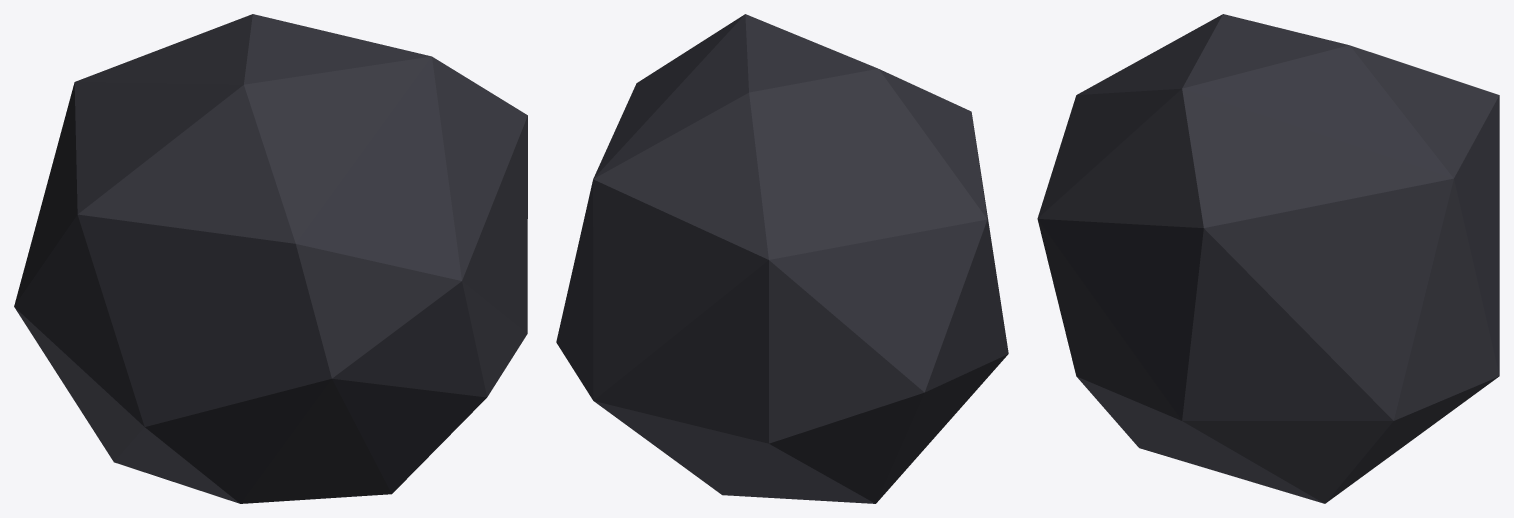
The model's file is BR_Steelix-Shiny03.obj.
3 renders of one model, left to right at view 1: azimuth 30°, elevation 25°; view 2: azimuth 150°, elevation 25°; view 3: azimuth 270°, elevation 25°, orthographic. The views are drawn at different scales.
Parts seen in each view (by area): view 1: haganeil; view 2: haganeil; view 3: haganeil.
Part boxes in pixels (x1=…): haganeil: x1=14, y1=14, x2=527, y2=503; haganeil: x1=556, y1=14, x2=1008, y2=503; haganeil: x1=1037, y1=14, x2=1499, y2=503.
Bounding box in the file's own units: 10.81 × 11.37 × 10.85.
1 material, 1 textured.
